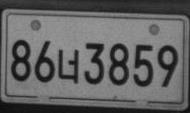3: (83, 42, 105, 85)
5: (133, 44, 154, 87)
6: (34, 39, 55, 82)
8: (9, 38, 31, 82), (108, 42, 130, 85)
9: (156, 44, 179, 86)
너: (57, 49, 80, 84)
